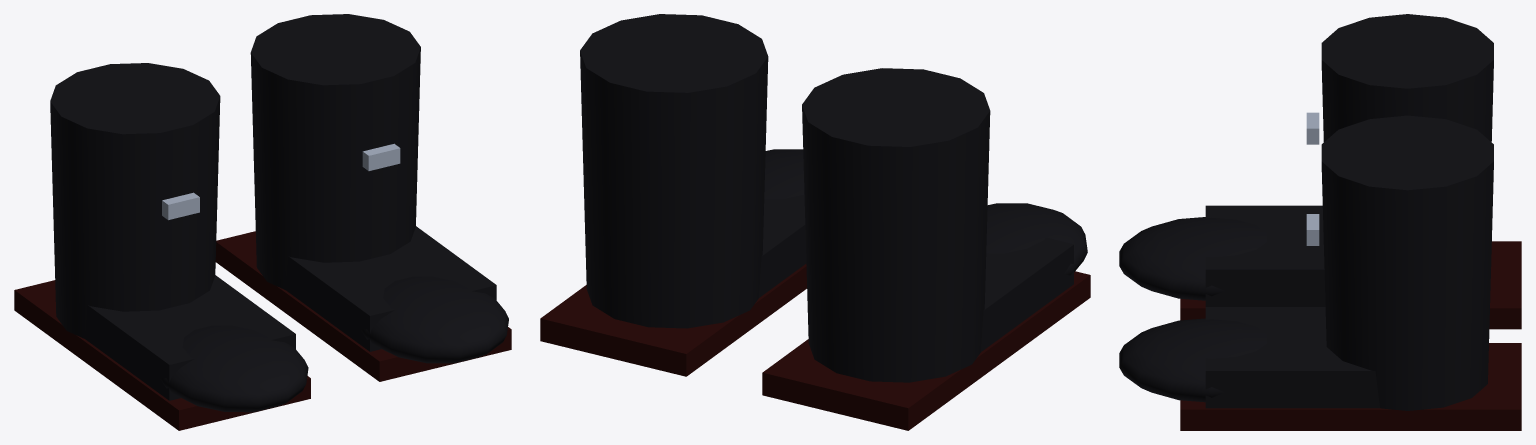
File: shoes_cool_1.glb
3 views of the same model, side by side, from view 1: azimuth 30°, elevation 25°; view 2: azimuth 150°, elevation 25°; view 3: azimuth 270°, elevation 25° (orthographic). The views are drawn at different scales.
Size of the model in its own units: 0.3696 by 0.2392 by 0.3563.
